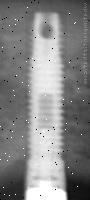Nobel Biocare: (25, 11, 67, 191)
